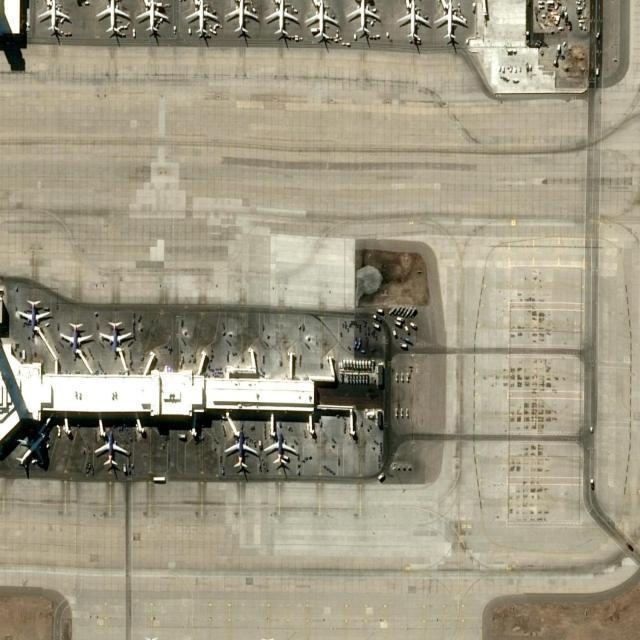Aircraft: (16, 429, 54, 473), (265, 0, 302, 42), (305, 0, 339, 45), (265, 430, 303, 470), (59, 321, 95, 363), (397, 0, 431, 43), (346, 1, 382, 41), (225, 431, 259, 473), (434, 1, 468, 43), (19, 300, 53, 340), (95, 433, 131, 470), (226, 0, 259, 39), (185, 0, 219, 37), (39, 1, 73, 37), (136, 0, 171, 34), (102, 321, 132, 360), (97, 0, 130, 35)
